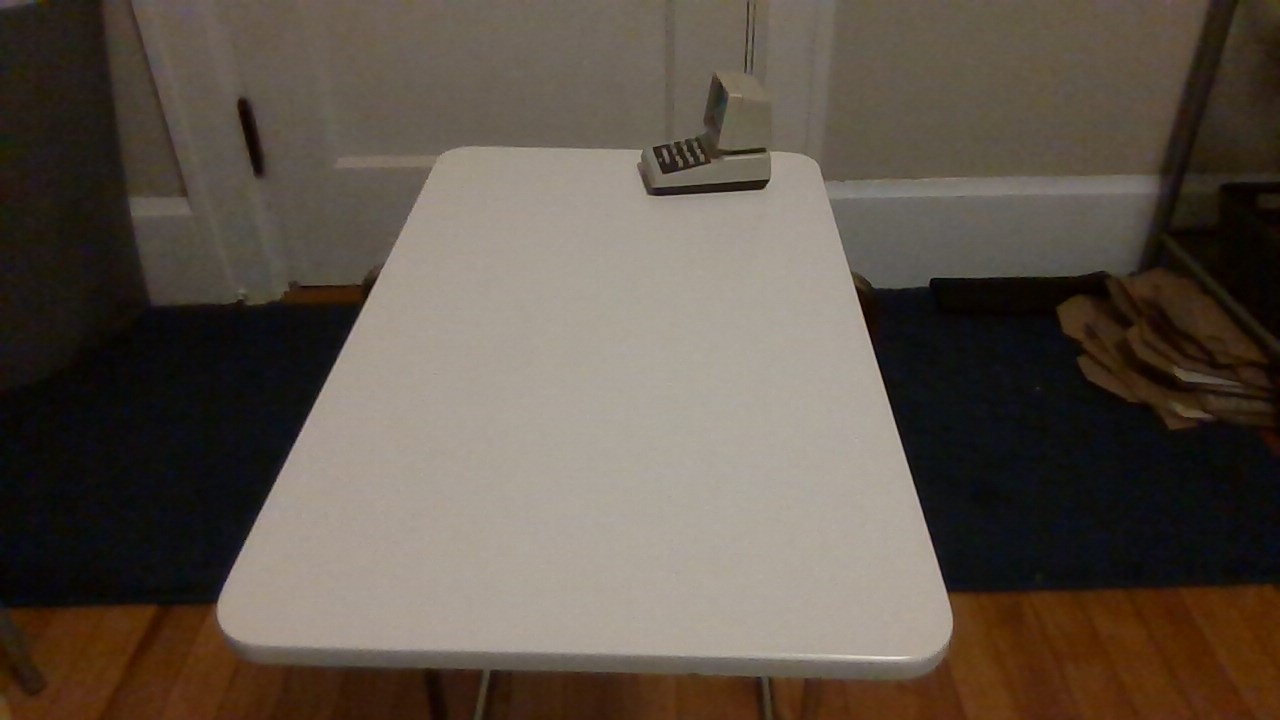Toy: (615, 59, 813, 214)
